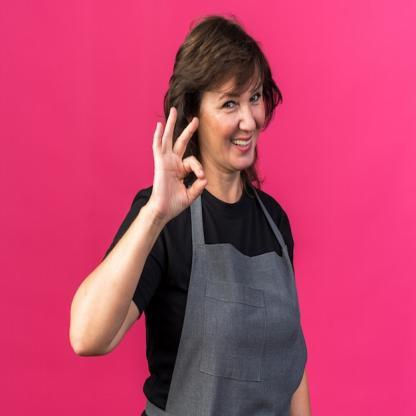ok: (152, 102, 208, 220)
